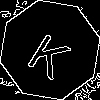K: (25, 25, 78, 81)
